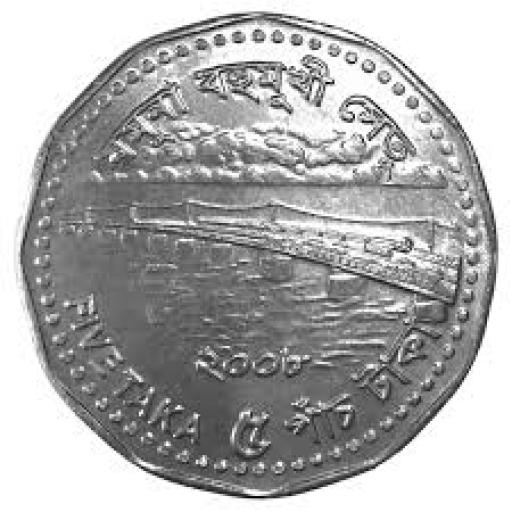5taka: (20, 11, 496, 496)
